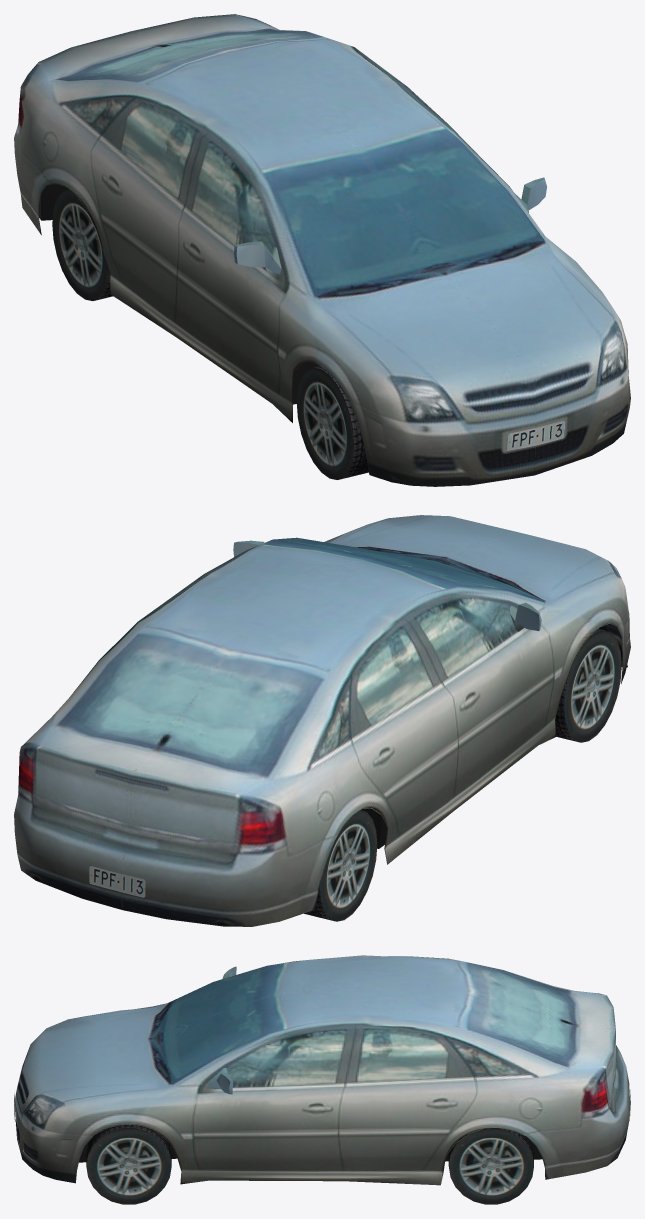
The model's file is car75.FBX.
3 views of the same model, one above another, from view 1: azimuth 30°, elevation 25°; view 2: azimuth 150°, elevation 25°; view 3: azimuth 270°, elevation 25° (orthographic). The views are drawn at different scales.
Parts seen in each view (by area): view 1: car_body75, rueda01, rueda002; view 2: car_body75, rueda01, rueda002; view 3: car_body75, rueda004, rueda003.
Part boxes in pixels (x1=…): car_body75: x1=14, y1=14, x2=630, y2=486; rueda01: x1=296, y1=366, x2=368, y2=479; rueda002: x1=52, y1=189, x2=112, y2=300; car_body75: x1=14, y1=515, x2=630, y2=926; rueda01: x1=555, y1=629, x2=621, y2=742; rueda002: x1=304, y1=809, x2=377, y2=921; car_body75: x1=14, y1=955, x2=630, y2=1185; rueda004: x1=86, y1=1124, x2=171, y2=1204; rueda003: x1=448, y1=1127, x2=533, y2=1204.
Size of the model in its own units: 1.97 by 1.42 by 4.61.
